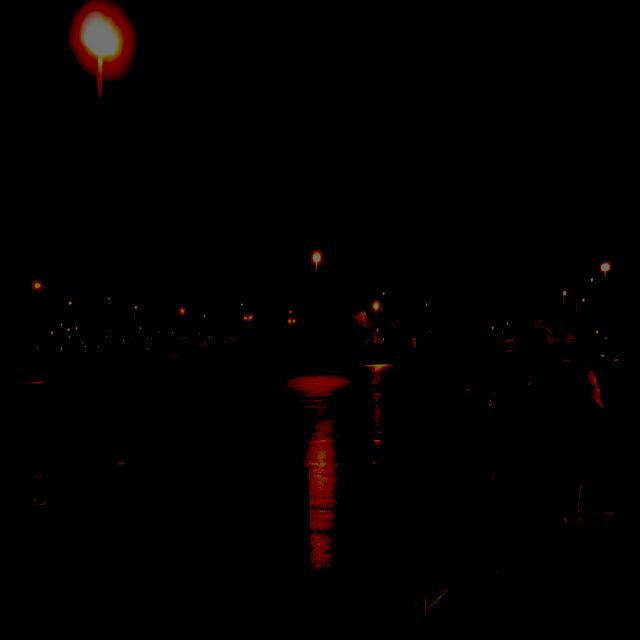Car: (476, 359, 606, 432)
